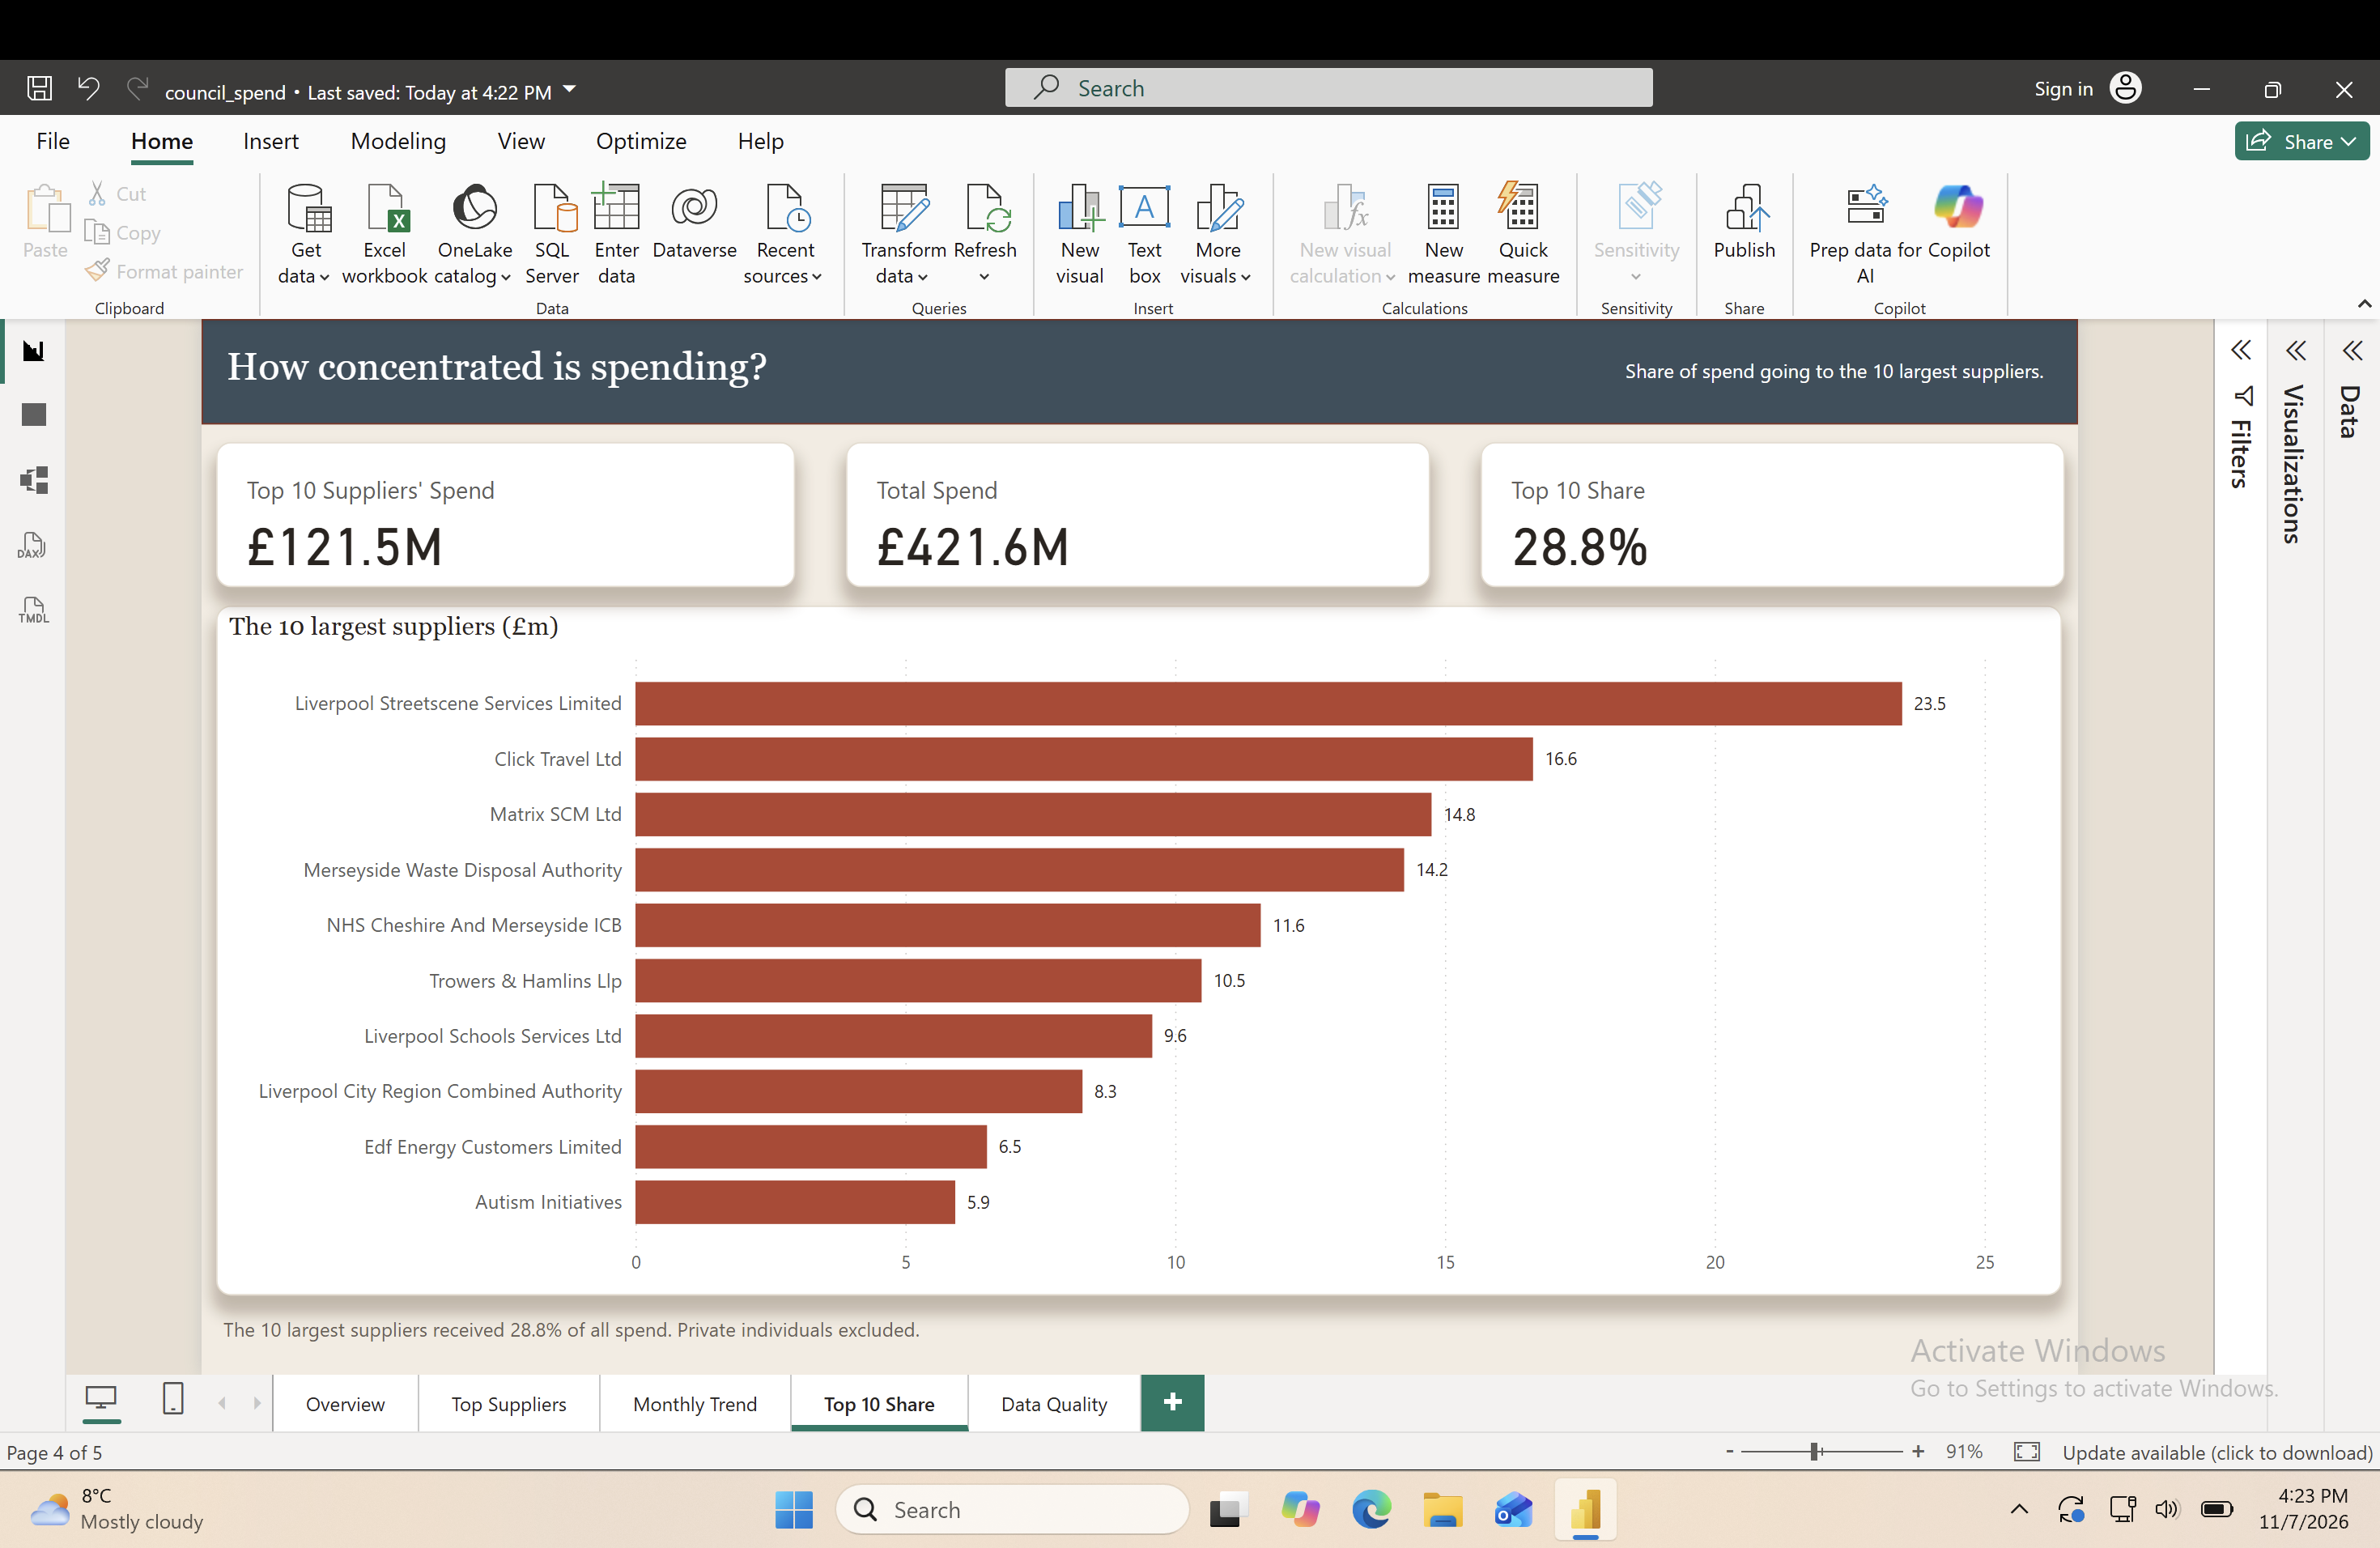

The page's visual inventory and layout, read from the dashboard file:
{"tool":"powerbi","page":{"name":"Top 10 Share","canvas":[1280,720],"ordinal":3},"visuals":[{"type":"clusteredBarChart","title":"The 10 largest suppliers (£m)","fields":{"Category":["dim_supplier.supplier_name"],"Y":["fact_spend.Spend £m"]},"box":[9.9,195.6,1259,470.4],"z":3000},{"type":"textbox","box":[9.9,674.7,1270.1,47],"z":4000},{"type":"cardVisual","fields":{"Data":["fact_spend.Top 10 Supplier Spend"]},"box":[9.9,84.2,394.9,99],"z":4001},{"type":"cardVisual","fields":{"Data":["fact_spend.Total Spend"]},"box":[439.5,84.2,398.6,99],"z":4002},{"type":"cardVisual","fields":{"Data":["fact_spend.Top 10 Share"]},"box":[872.7,84.2,398.6,99],"z":4003},{"type":"shape","box":[0,0,1280,72],"z":4004},{"type":"textbox","box":[12.4,12.4,388.7,50.8],"z":4005},{"type":"textbox","box":[966.8,21,304.5,44.6],"z":4006}]}

Visuals, with their boxes on the page's 1280x720 design canvas (x1, y1, x2, y2). These are canvas units, not pixel positions in the 2380x1548 screenshot, which may show the page scaled, cropped or inside an application window:
"The 10 largest suppliers (£m)" clusteredBarChart: region(10, 196, 1269, 666)
textbox: region(10, 675, 1280, 722)
cardVisual - fact_spend.Top 10 Supplier Spend: region(10, 84, 405, 183)
cardVisual - fact_spend.Total Spend: region(440, 84, 838, 183)
cardVisual - fact_spend.Top 10 Share: region(873, 84, 1271, 183)
shape: region(0, 0, 1280, 72)
textbox: region(12, 12, 401, 63)
textbox: region(967, 21, 1271, 66)
